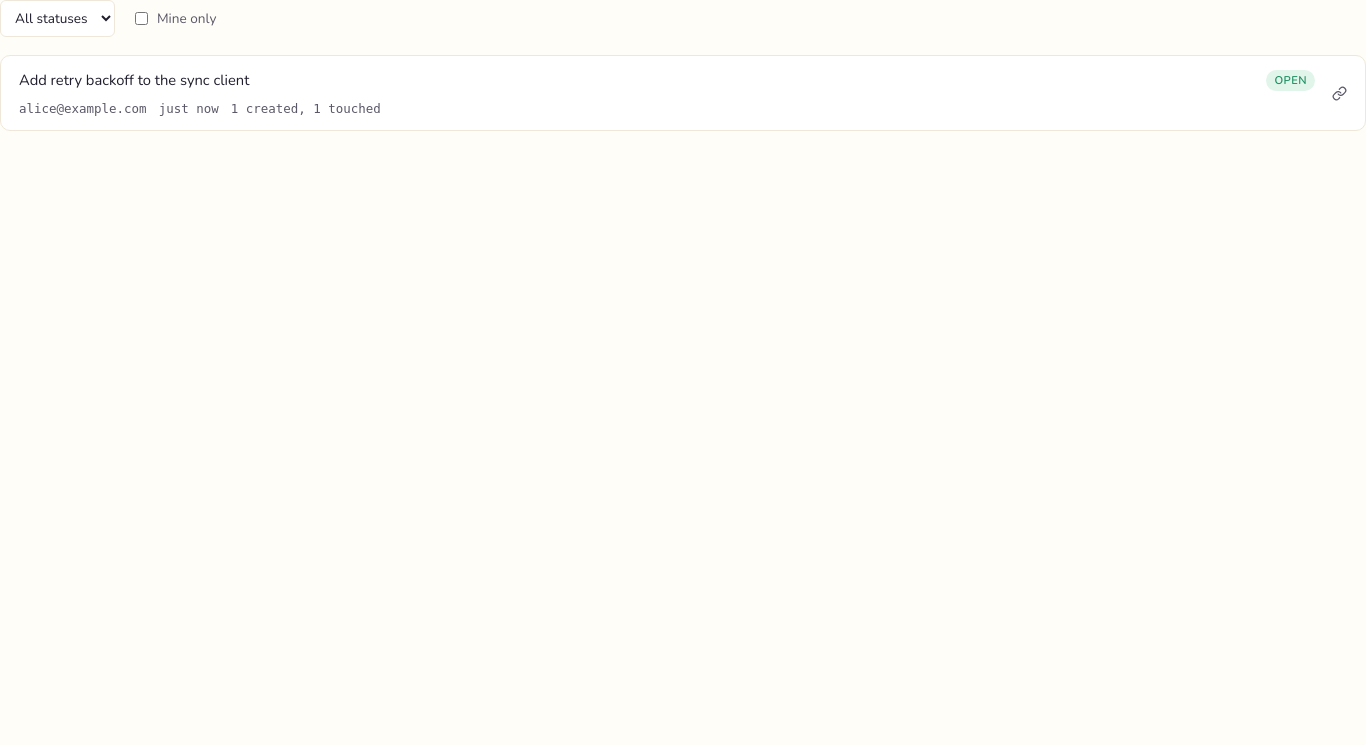
Test: DesignsView › expands a card on click to show the full plan text, scope, and the session's claims
Click the button "Add retry backoff to the sync client".
click(134, 80)  # box top-left (1, 56), bottom-right (1365, 130)
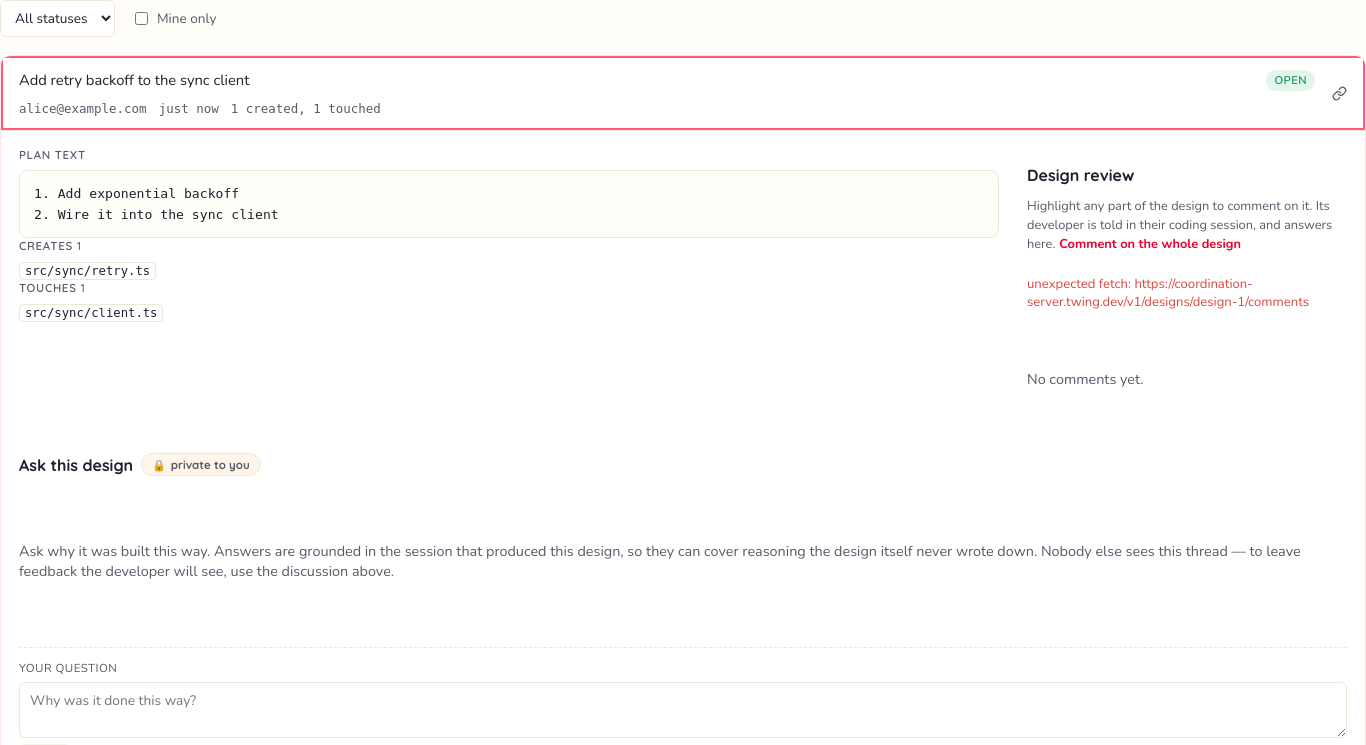
Expected: the text "1. Add exponential backoff 2. Wire it into the sync client" is shown, top-left (34, 186), bottom-right (279, 222)
Expected: the text "src/sync/retry.ts" is shown, top-left (19, 262), bottom-right (156, 280)
Expected: the text "src/sync/client.ts" is shown, top-left (19, 304), bottom-right (163, 322)
Note: Collapses again on a second click.
Click the button "Add retry backoff to the sync client".
click(134, 80)  # box top-left (1, 56), bottom-right (1365, 130)
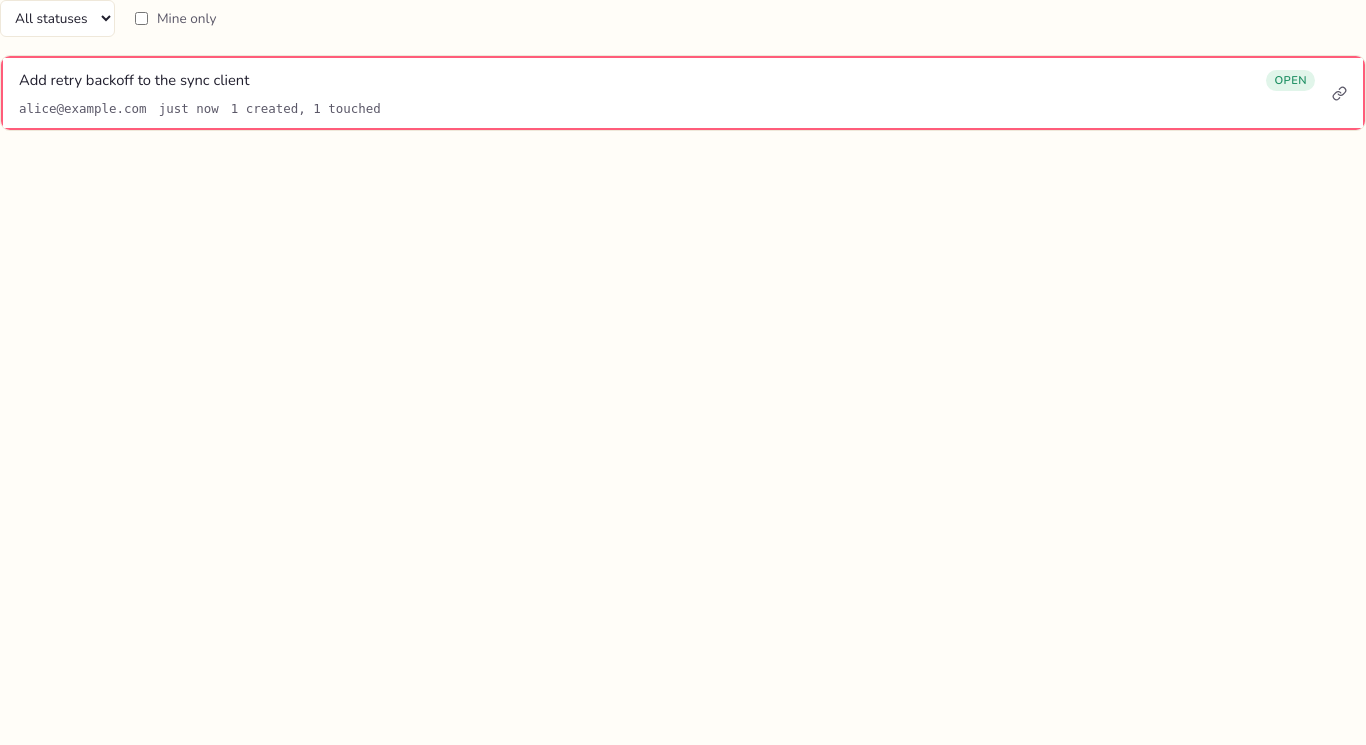
Expected: the text "Add exponential backoff" is gone
